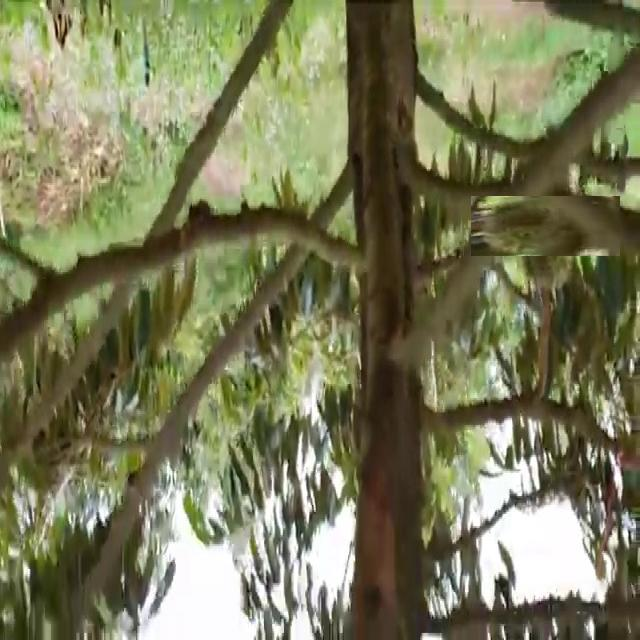durian: (493, 174, 598, 279)
